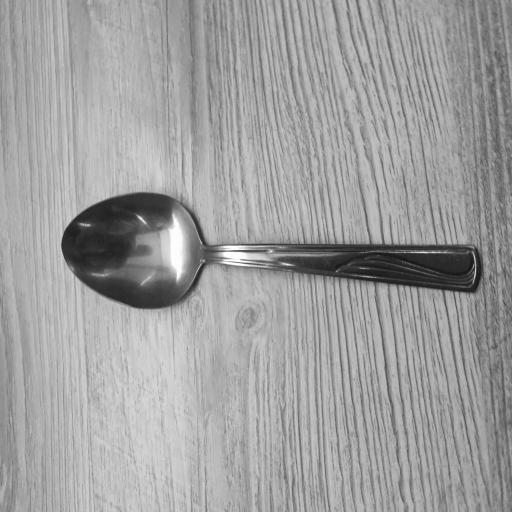spoon: (55, 195, 478, 308)
